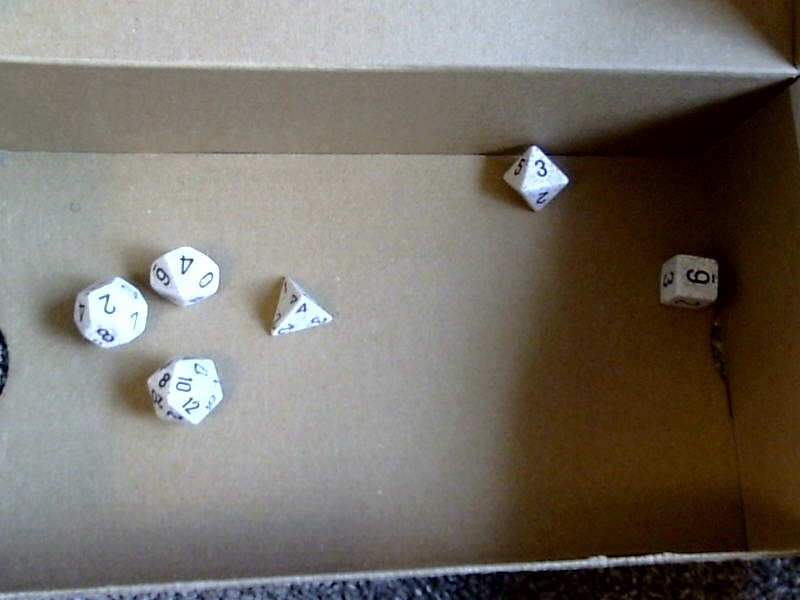d10 4: (148, 240, 232, 311)
d12 2: (65, 275, 148, 350)
d20 10: (142, 352, 224, 431)
d4 4: (263, 271, 335, 350)
d6 6: (651, 247, 728, 316)
d8 3: (498, 139, 576, 218)
